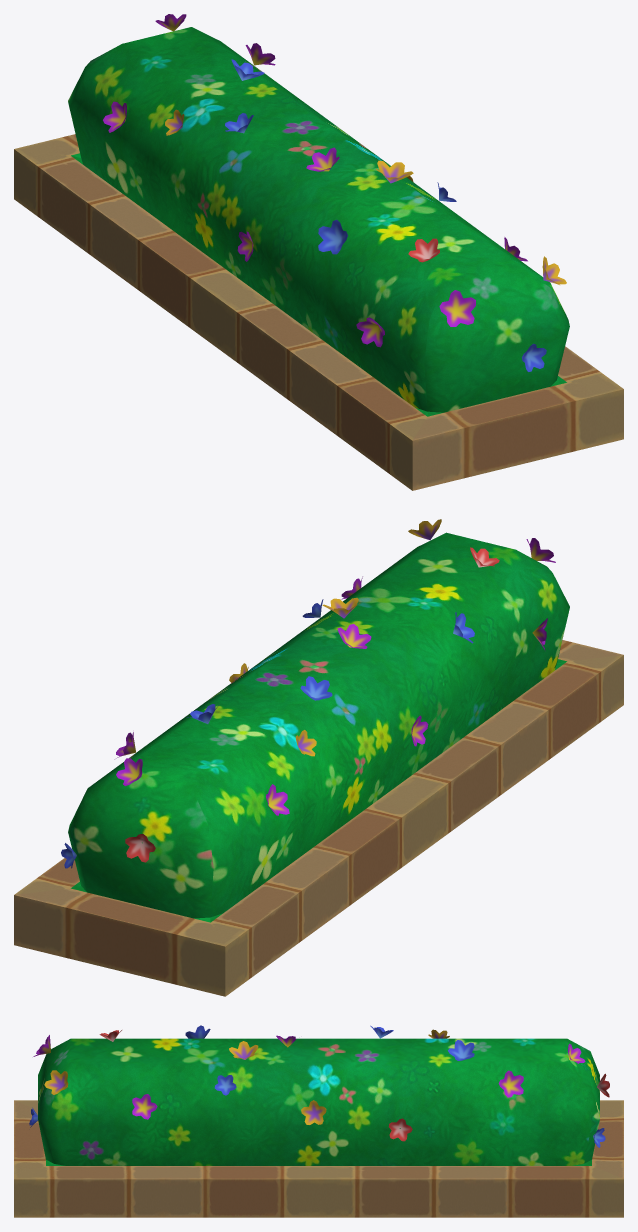
File: Plant04_b04.FBX
3 renders of one model, top to bottom at view 1: azimuth 30°, elevation 25°; view 2: azimuth 150°, elevation 25°; view 3: azimuth 270°, elevation 25°, orthographic. The views are drawn at different scales.
Parts seen in each view (by area): view 1: Plant04_b04; view 2: Plant04_b04; view 3: Plant04_b04.
Boxes of the visible parts, x1=… form: Plant04_b04: x1=14, y1=14, x2=623, y2=490; Plant04_b04: x1=14, y1=519, x2=623, y2=996; Plant04_b04: x1=14, y1=1025, x2=623, y2=1217.
Size of the model in its own units: 208 by 173 by 678.
3 materials, 3 textured.
